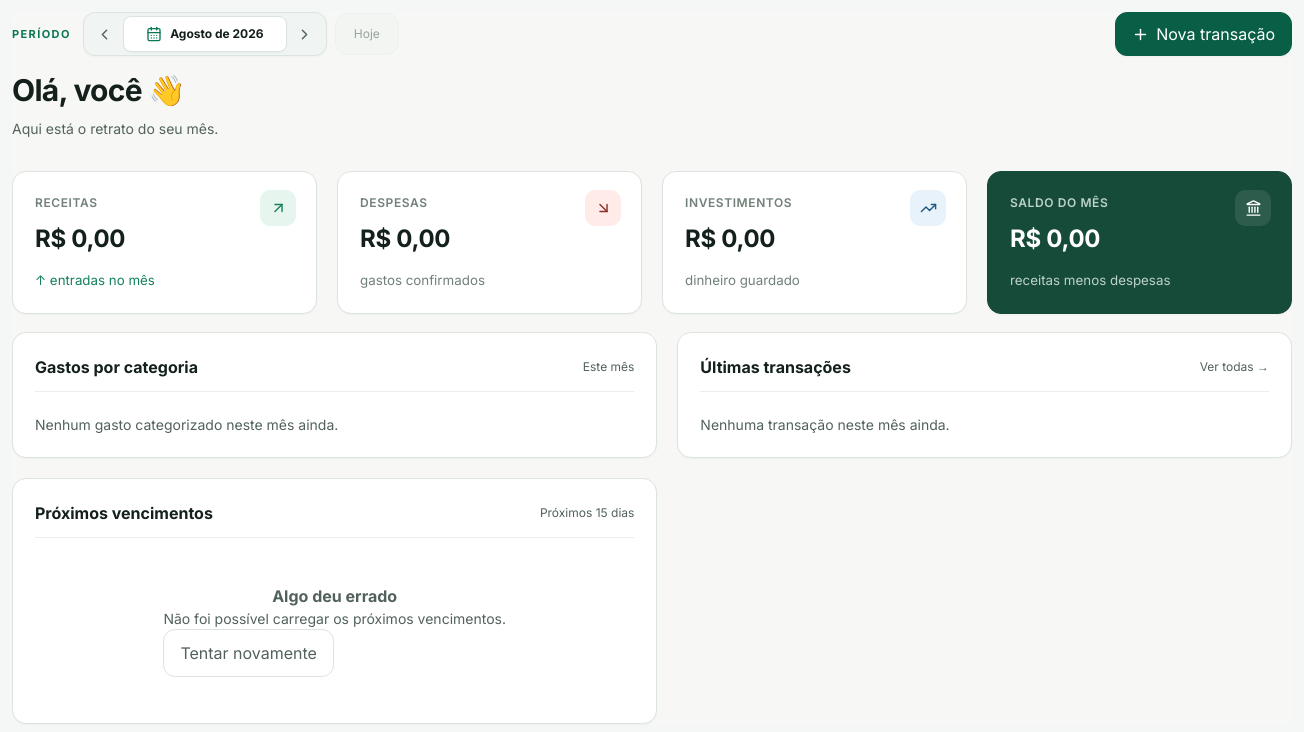
Test: Dashboard upcoming kinds › shows loading and error states in the upcoming region and retries
The image size is (1304, 732).
Expected: the text "Nada vence nos próximos 15 dias." is not shown
Expected: the element named "Tentar novamente" shows "Não foi possível carregar os próximos vencimentos", top-left (163, 610), bottom-right (506, 627)
Click the button "Tentar novamente": point(249, 653) top-left (163, 629), bottom-right (334, 677)
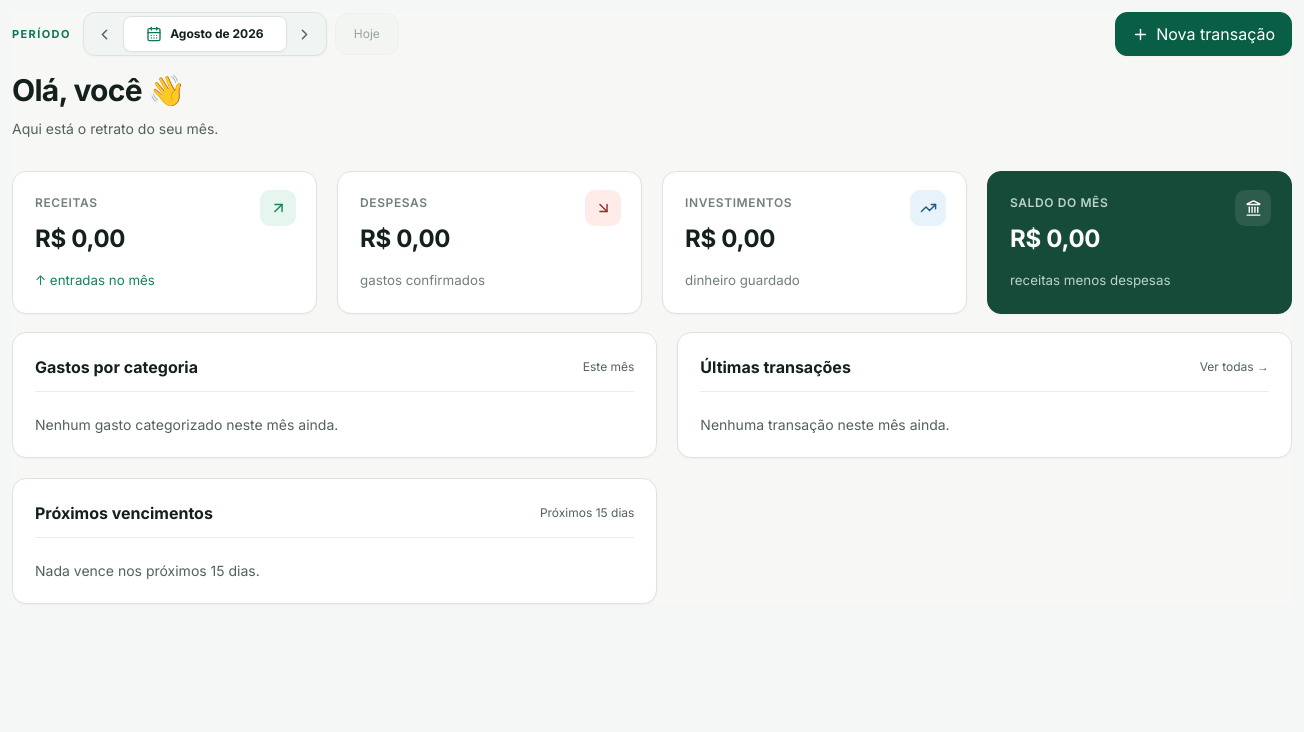
Expected: the text "Nada vence nos próximos 15 dias." is shown, top-left (35, 562), bottom-right (260, 579)
